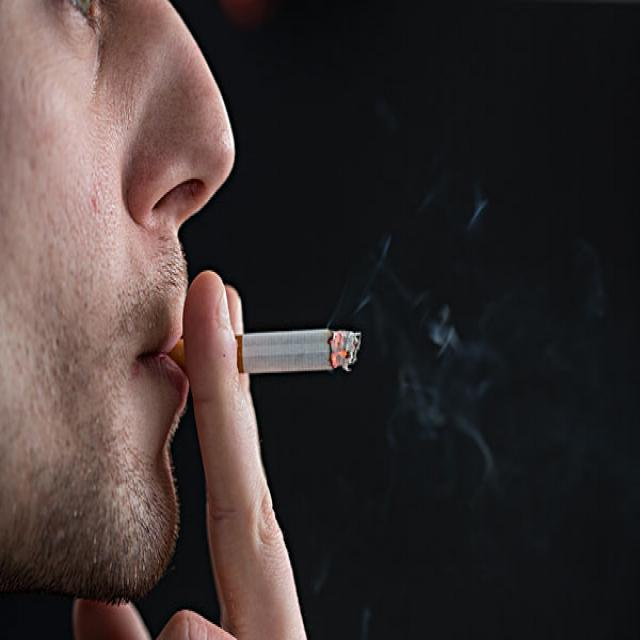smoking: (168, 323, 363, 372)
